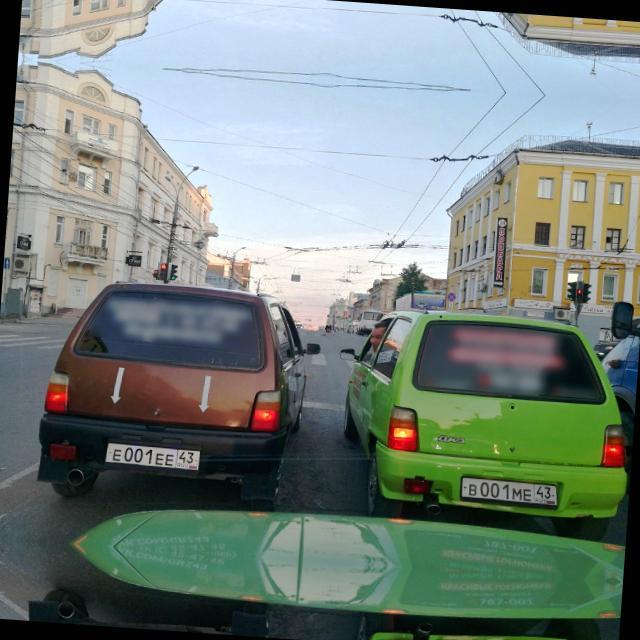citizen: (452, 467, 564, 514), (100, 438, 204, 477), (442, 632, 553, 640)
